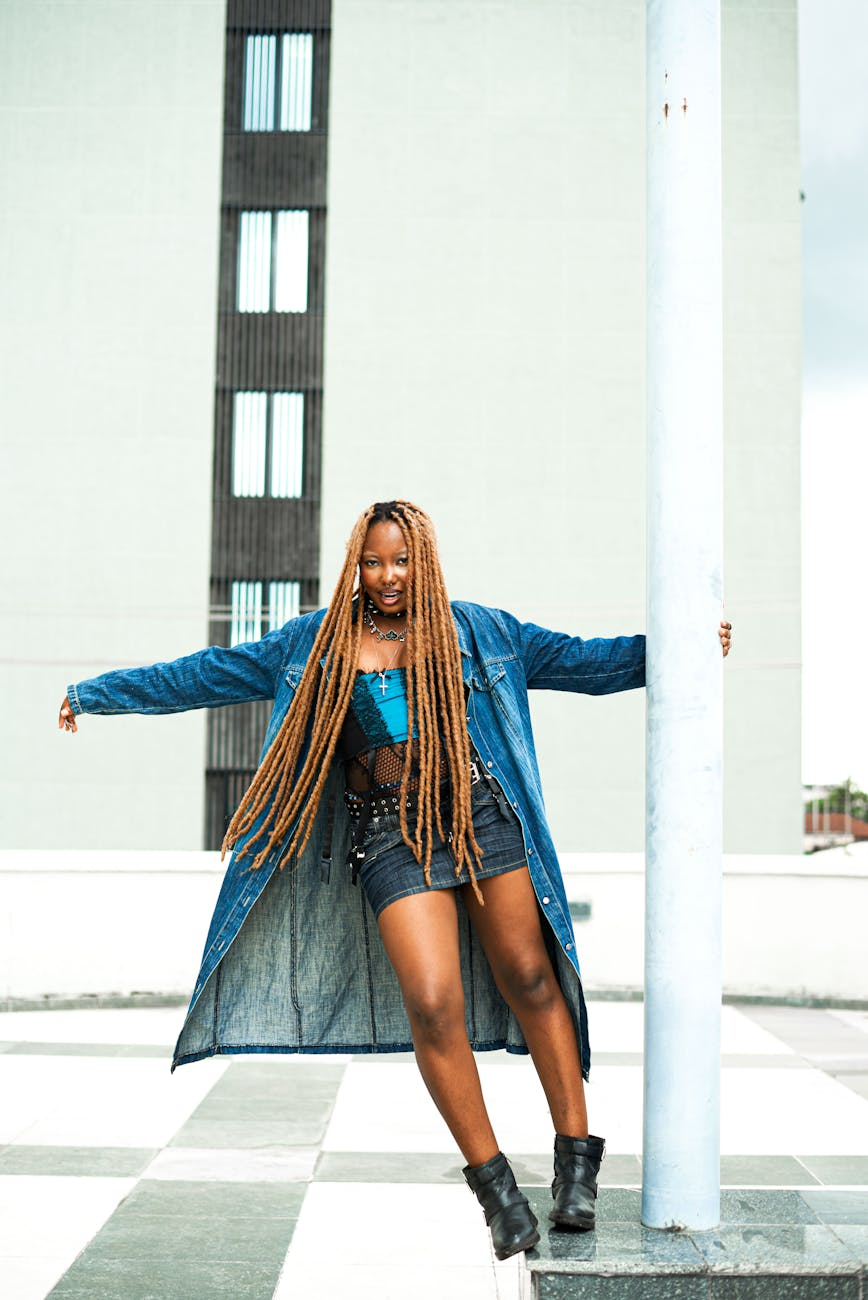short_medium_skirt: (343, 770, 564, 909)
